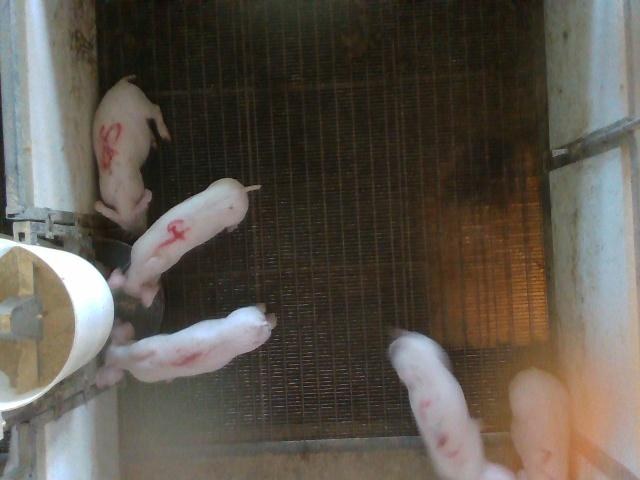pig-1: (96, 305, 275, 387)
pig-3: (389, 331, 486, 479)
pig-4: (109, 179, 259, 306)
pig-5: (92, 75, 171, 232)
